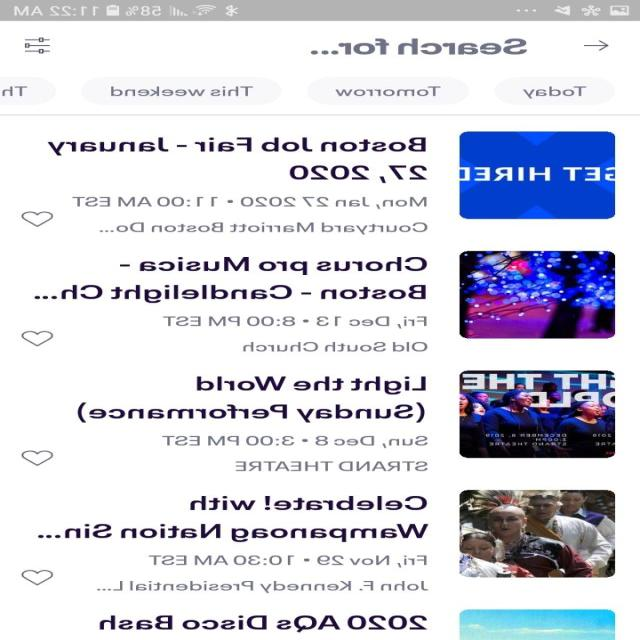Icon: (22, 569, 55, 586), (22, 330, 54, 347), (22, 450, 54, 466), (22, 211, 54, 227), (25, 37, 51, 54), (583, 40, 609, 51)
Image: (459, 489, 616, 578), (459, 370, 616, 458), (459, 131, 616, 219), (459, 251, 616, 338), (459, 608, 616, 640)
Text: (35, 256, 428, 303), (38, 495, 430, 542), (47, 136, 429, 183), (77, 376, 427, 422), (71, 196, 428, 234), (97, 554, 430, 593), (162, 316, 428, 352), (162, 435, 428, 471), (100, 614, 428, 632), (310, 38, 528, 55)
TextButton: (81, 77, 282, 105), (306, 77, 469, 105), (494, 77, 615, 105), (1, 77, 57, 105)
